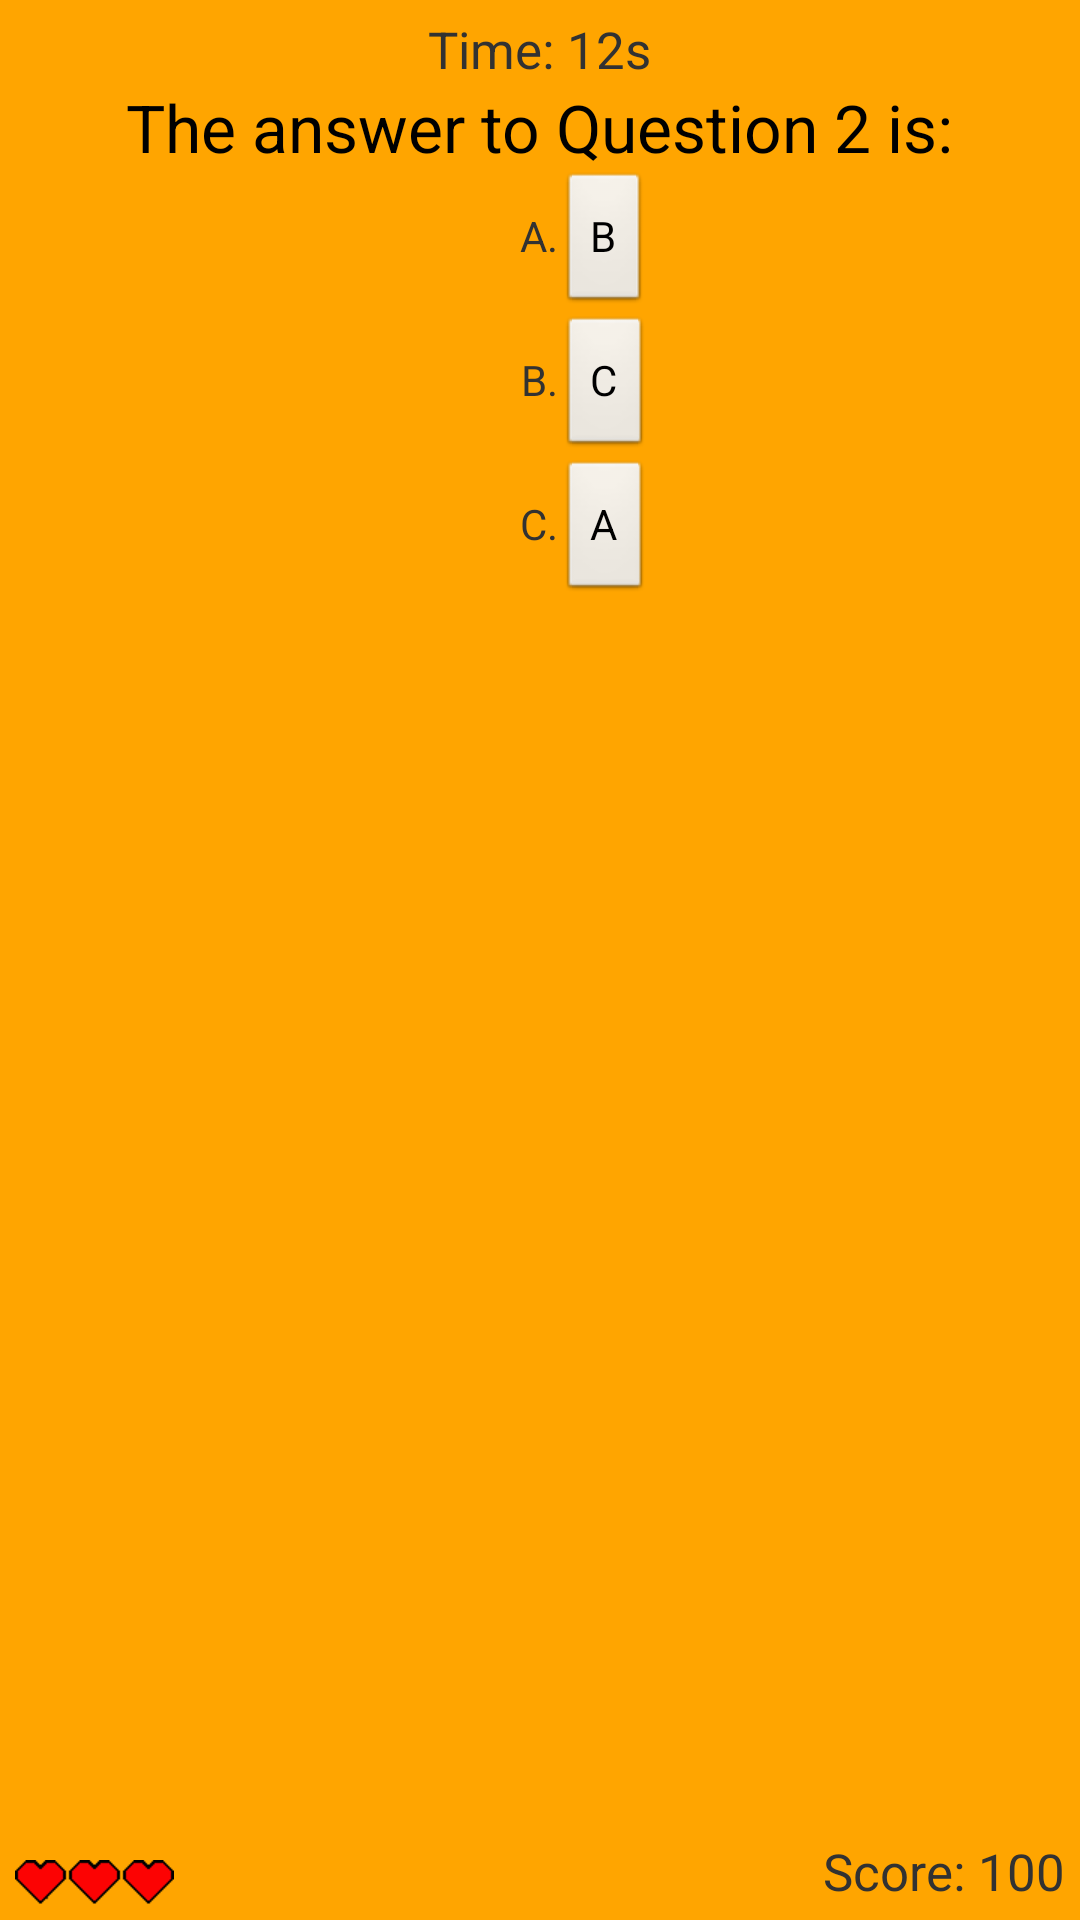

Locate icon controls on the screen. Image size 1080px×1920px, boxes as detection(x1, y1, x2, y2).
heart: detection(15, 1860, 174, 1904)
